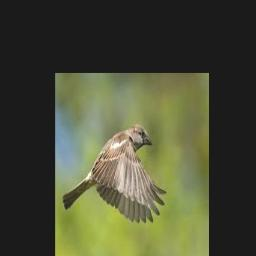Sparrow: (62, 124, 166, 222)
